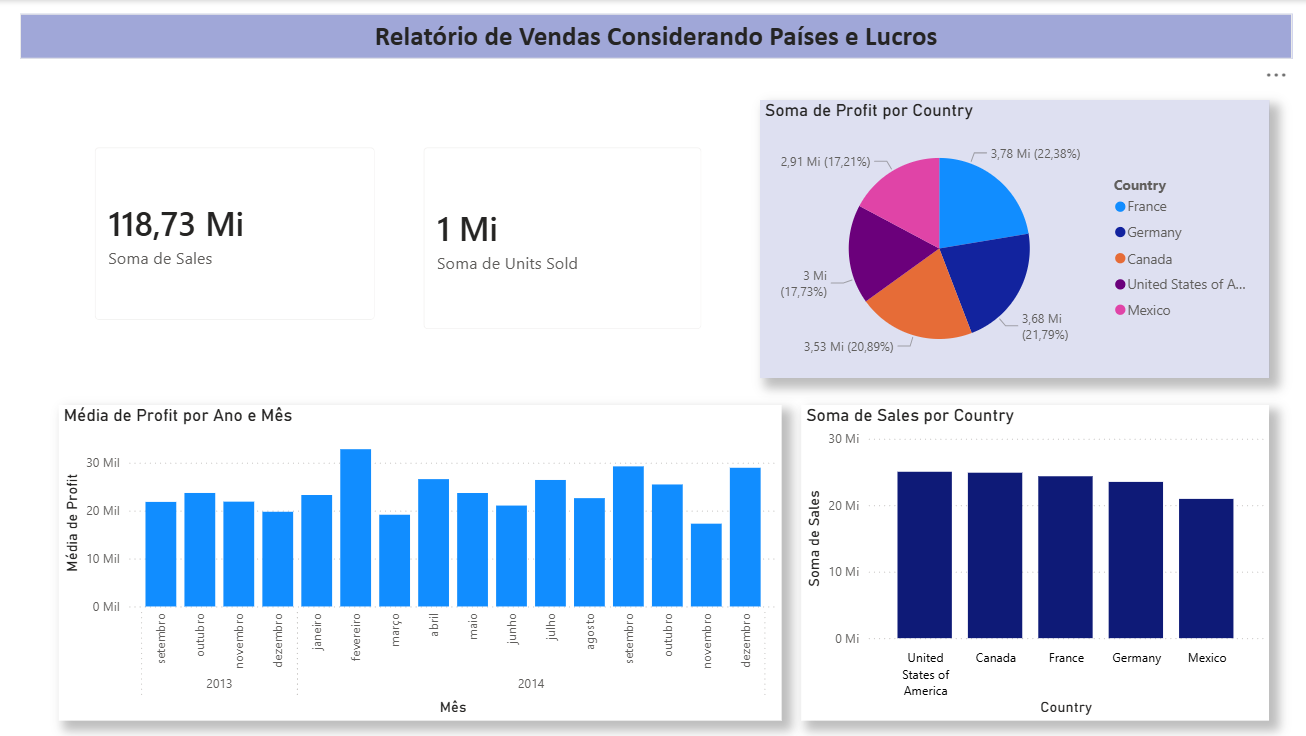

The dashboard page shown, as its layout file describes it:
{"tool":"powerbi","page":{"name":"Relatório de Vendas Considerando Países e Lucros","canvas":[1280,720],"ordinal":1},"visuals":[{"type":"textbox","box":[19.2,13.7,1244.6,43.9],"z":0},{"type":"cardVisual","fields":{"Data":["Sum(financials.Sales)"]},"box":[75.5,127.6,308.7,203.1],"z":1000},{"type":"cardVisual","fields":{"Data":["Sum(financials.Units Sold)"]},"box":[397.9,127.6,306,212.7],"z":2000},{"type":"pieChart","fields":{"Category":["financials.Country"],"Y":["Sum(financials.Profit)"]},"box":[743.7,97.4,498.1,271.7],"z":3000},{"type":"clusteredColumnChart","fields":{"Category":["financials.Date.Variation.Hierarquia de datas.Ano","financials.Date.Variation.Hierarquia de datas.Mês"],"Y":["Avg(financials.Profit)"]},"box":[57.7,395.6,707.5,309.1],"z":4000},{"type":"clusteredColumnChart","fields":{"Category":["financials.Country"],"Y":["Sum(financials.Sales)"]},"box":[784.4,395.6,457.4,309.1],"z":5000}]}

Visuals, with their boxes in screenshot pixels (x1, y1, x2, y2), scaled from the page's 1280x720 canvas onto the 1306x736 screenshot:
textbox: [x1=20, y1=14, x2=1289, y2=59]
cardVisual - Sum(financials.Sales): [x1=77, y1=130, x2=392, y2=338]
cardVisual - Sum(financials.Units Sold): [x1=406, y1=130, x2=718, y2=348]
pieChart - financials.Country x Sum(financials.Profit): [x1=759, y1=100, x2=1267, y2=377]
clusteredColumnChart - financials.Date.Variation.Hierarquia de datas.Ano x financials.Date.Variation.Hierarquia de datas.Mês: [x1=59, y1=404, x2=781, y2=720]
clusteredColumnChart - financials.Country x Sum(financials.Sales): [x1=800, y1=404, x2=1267, y2=720]
